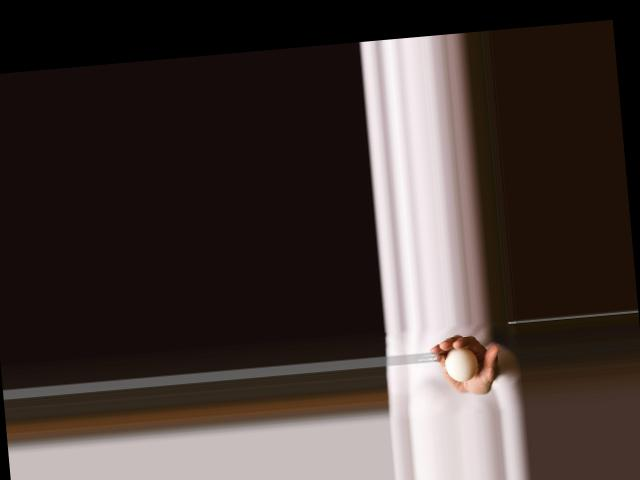egg: (443, 345, 479, 382)
